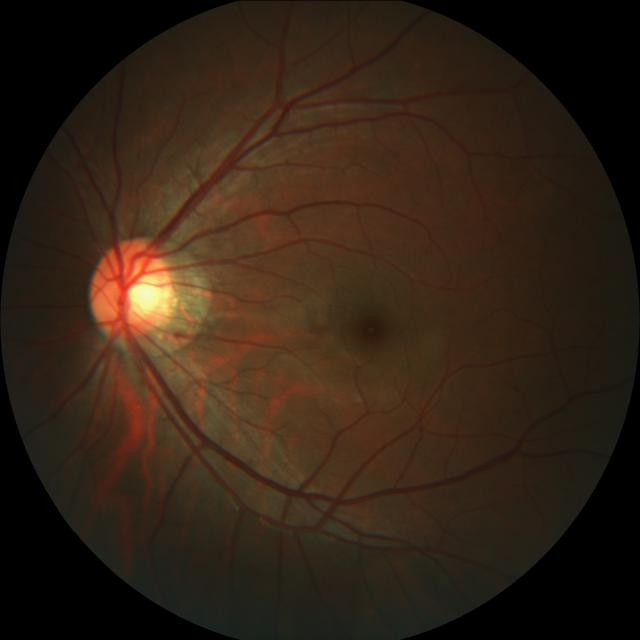OC: (120, 268, 162, 320)
OD: (93, 238, 178, 341)
